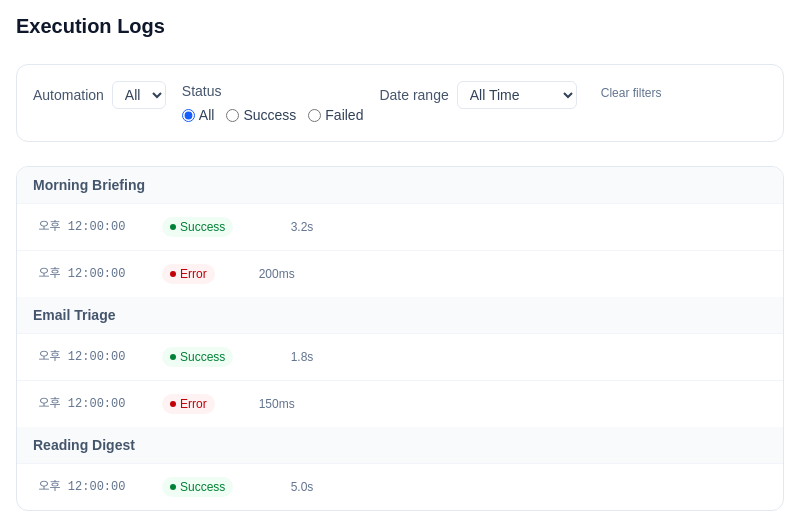
Test: TC-6008: Select 'failed' status filter → shows only failed/error logs › TC-6008: clicking 'success' filter shows only successful logs — RED: no filter UI
The image size is (801, 528).
expect the text "Morning Briefing" is shown: met, box top-left (17, 167), bottom-right (783, 204)
Click the radio button labelled "Success" at (233, 115), box top-left (226, 108), bottom-right (239, 122)
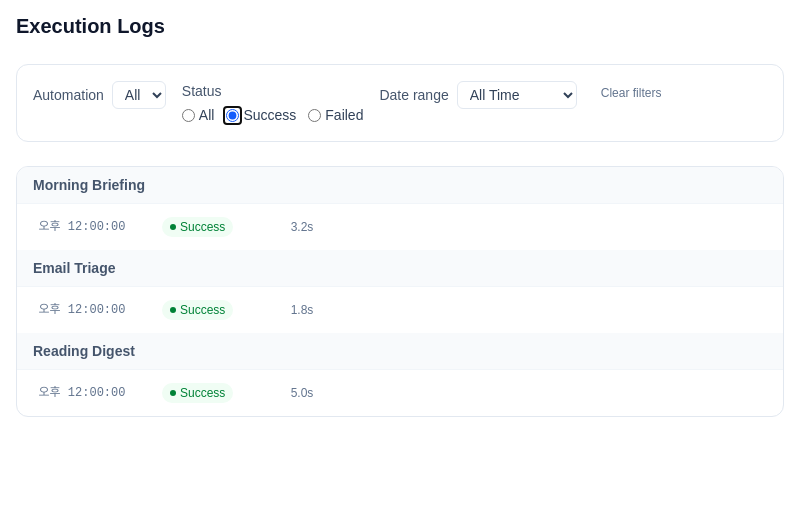
expect no buttons "Error" are shown: met
